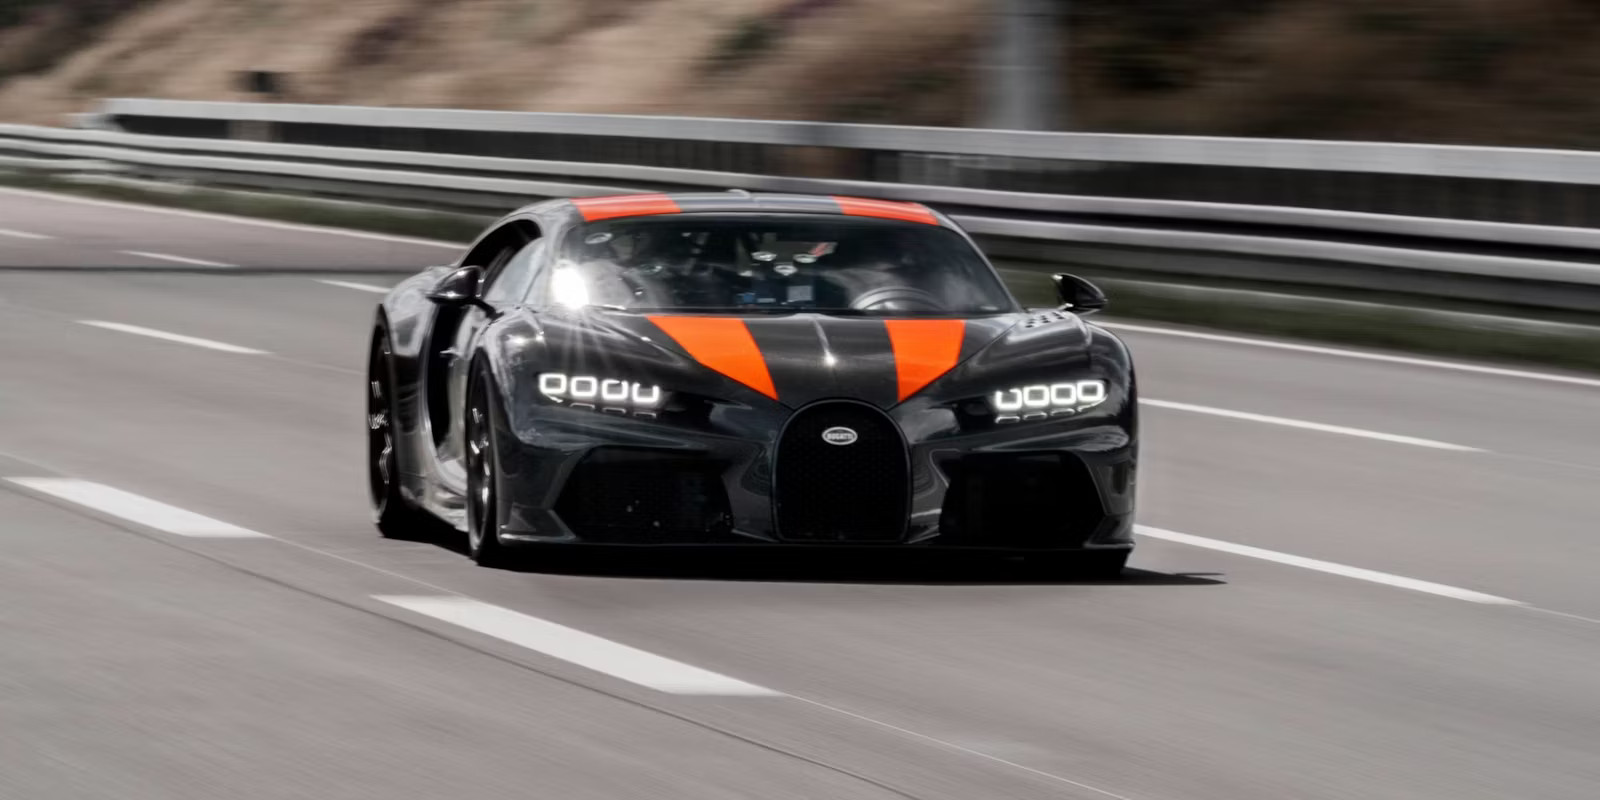car: (364, 190, 1142, 573)
